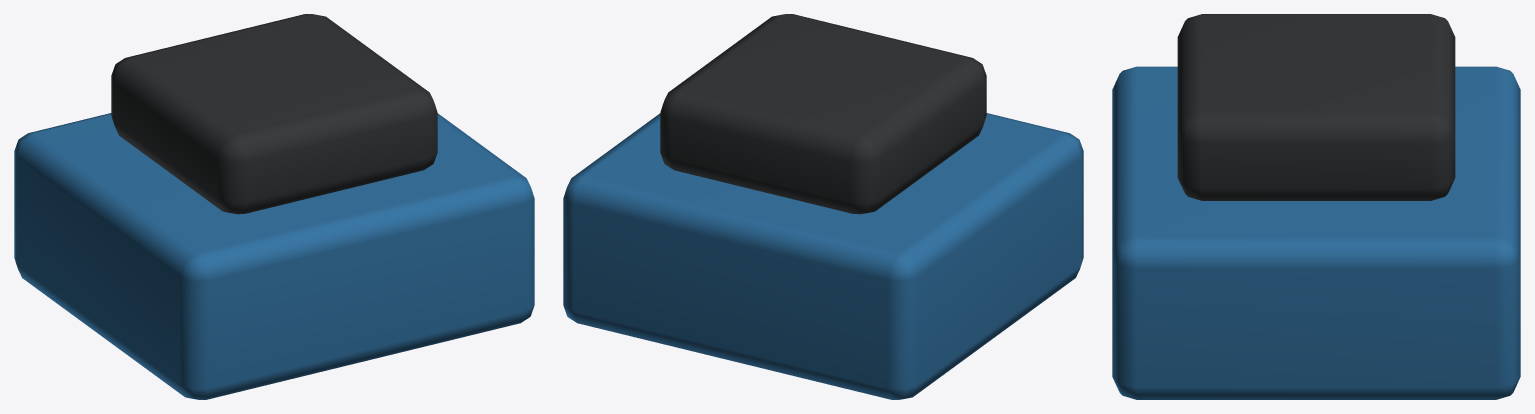
File: weapon-mount.glb
3 views of the same model, side by side, from view 1: azimuth 30°, elevation 25°; view 2: azimuth 150°, elevation 25°; view 3: azimuth 270°, elevation 25° (orthographic). The views are drawn at different scales.
Visible parts, largest first — view 1: weapon-mount; view 2: weapon-mount; view 3: weapon-mount.
Part boxes in pixels (<box>): weapon-mount: <box>14,14,534,399</box>; weapon-mount: <box>563,14,1083,399</box>; weapon-mount: <box>1112,14,1520,399</box>.
Size of the model in its own units: 0.55 by 0.34 by 0.5.
